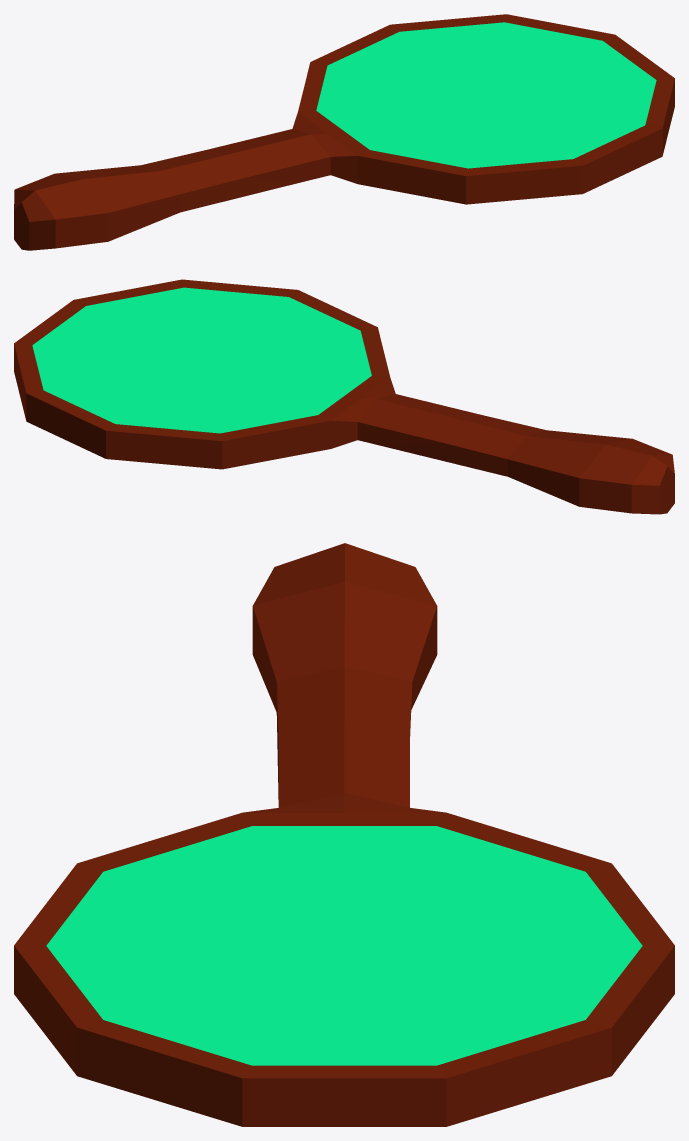
File: MagnifyingLens.fbx
3 renders of one model, top to bottom at view 1: azimuth 30°, elevation 25°; view 2: azimuth 150°, elevation 25°; view 3: azimuth 270°, elevation 25°, orthographic. The views are drawn at different scales.
Parts seen in each view (by area): view 1: Cylinder.012; view 2: Cylinder.012; view 3: Cylinder.012.
Part boxes in pixels (<box>): Cylinder.012: <box>14,14,674,250</box>; Cylinder.012: <box>14,279,674,514</box>; Cylinder.012: <box>14,543,674,1126</box>.
Size of the model in its own units: 628 by 52.76 by 336.
